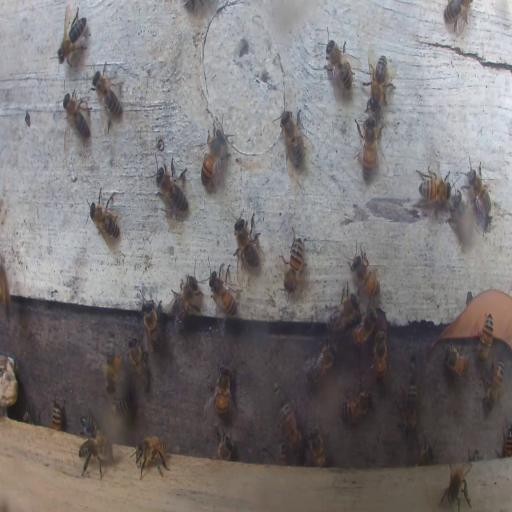bee: (155, 158, 189, 220), (278, 107, 310, 169), (464, 157, 492, 227), (57, 6, 89, 66), (167, 273, 201, 329), (324, 35, 355, 96), (200, 121, 228, 188), (88, 188, 120, 246), (440, 459, 474, 511), (232, 214, 262, 272), (209, 264, 239, 322), (364, 53, 395, 109), (92, 65, 124, 119), (326, 281, 359, 333), (355, 114, 381, 179), (133, 435, 168, 478), (348, 250, 380, 297), (304, 340, 336, 386), (62, 90, 91, 140), (78, 430, 109, 476), (283, 230, 305, 294), (126, 336, 152, 390), (416, 168, 451, 205), (340, 385, 372, 425), (279, 400, 303, 453), (140, 295, 162, 351), (102, 331, 120, 397), (452, 191, 474, 242), (483, 358, 504, 411), (350, 307, 377, 348), (399, 380, 419, 433), (444, 0, 472, 36), (214, 364, 232, 417), (476, 313, 494, 363), (372, 328, 386, 384), (442, 346, 468, 376), (307, 427, 326, 467), (212, 426, 233, 460), (2, 254, 12, 319), (416, 432, 434, 464), (79, 416, 102, 440), (500, 420, 512, 458), (111, 390, 129, 412), (50, 401, 63, 431)
